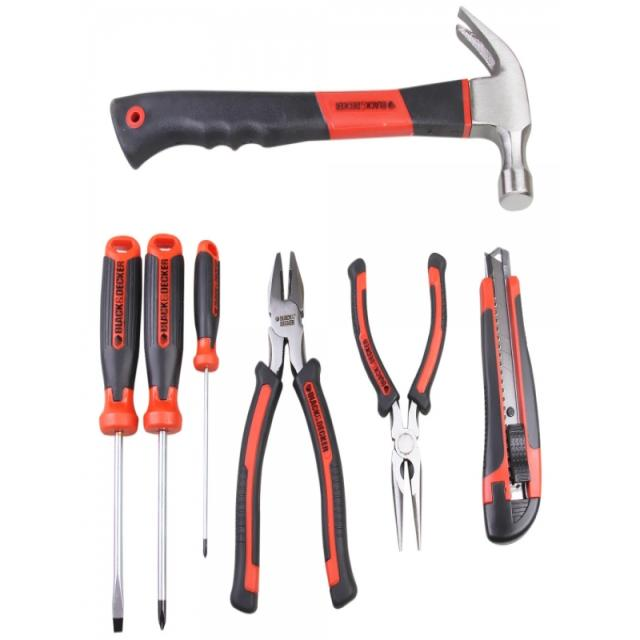Screwdriver: (99, 237, 141, 632), (144, 233, 184, 629), (194, 240, 220, 556)
